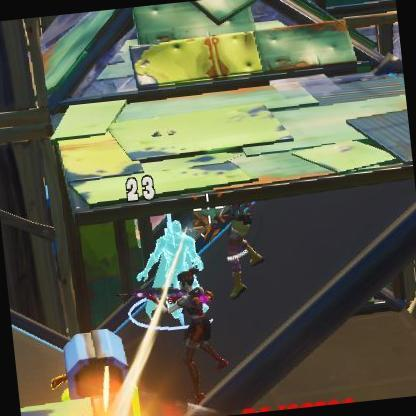person: (168, 278, 218, 382), (223, 204, 256, 294)
